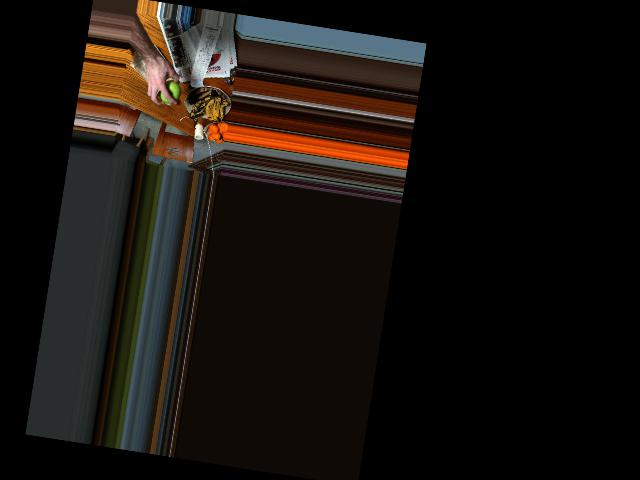apple: (157, 77, 182, 106)
